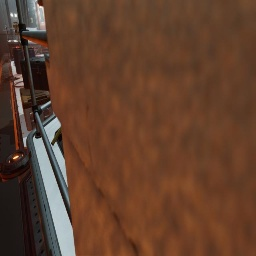EmergencyPhone ,: (30, 16, 33, 22)
NitrogenTank ,: (35, 54, 44, 57)
